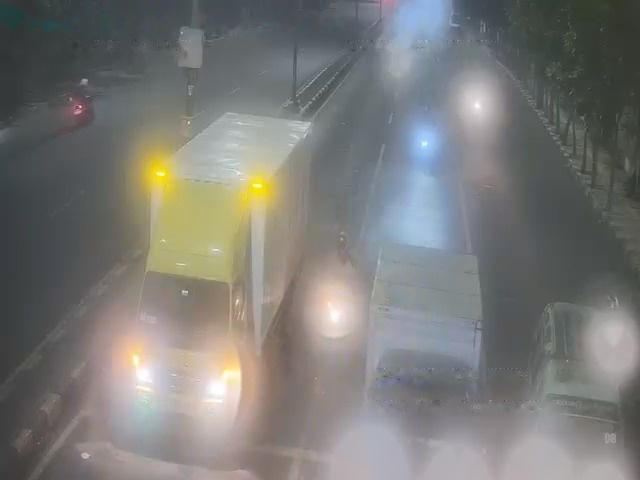Mobil: (370, 242, 480, 447), (527, 294, 618, 464)
Motor: (319, 239, 354, 343), (417, 133, 436, 158), (71, 99, 92, 120)
Truk: (140, 102, 308, 428)
